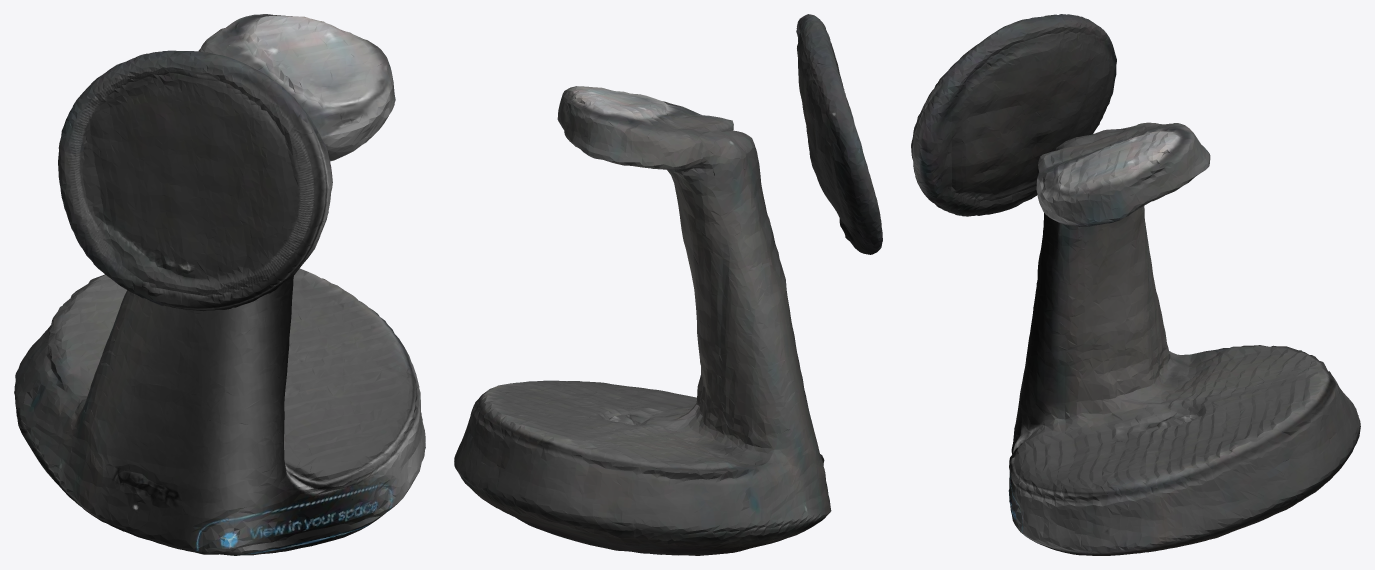
Rendered from wireless-charger.glb.
3 views of the same model, side by side, from view 1: azimuth 30°, elevation 25°; view 2: azimuth 150°, elevation 25°; view 3: azimuth 270°, elevation 25° (orthographic). The views are drawn at different scales.
Visible parts, largest first — view 1: geometry_0; view 2: geometry_0; view 3: geometry_0.
Part boxes in pixels (x1=…): geometry_0: x1=14, y1=14, x2=425, y2=555; geometry_0: x1=454, y1=14, x2=882, y2=555; geometry_0: x1=911, y1=14, x2=1360, y2=555.
Size of the model in its own units: 0.7521 by 0.9785 by 0.8695.
1 material, 1 textured.
